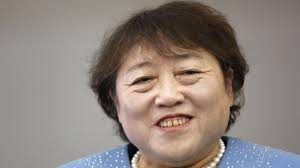person: (92, 3, 242, 166)
